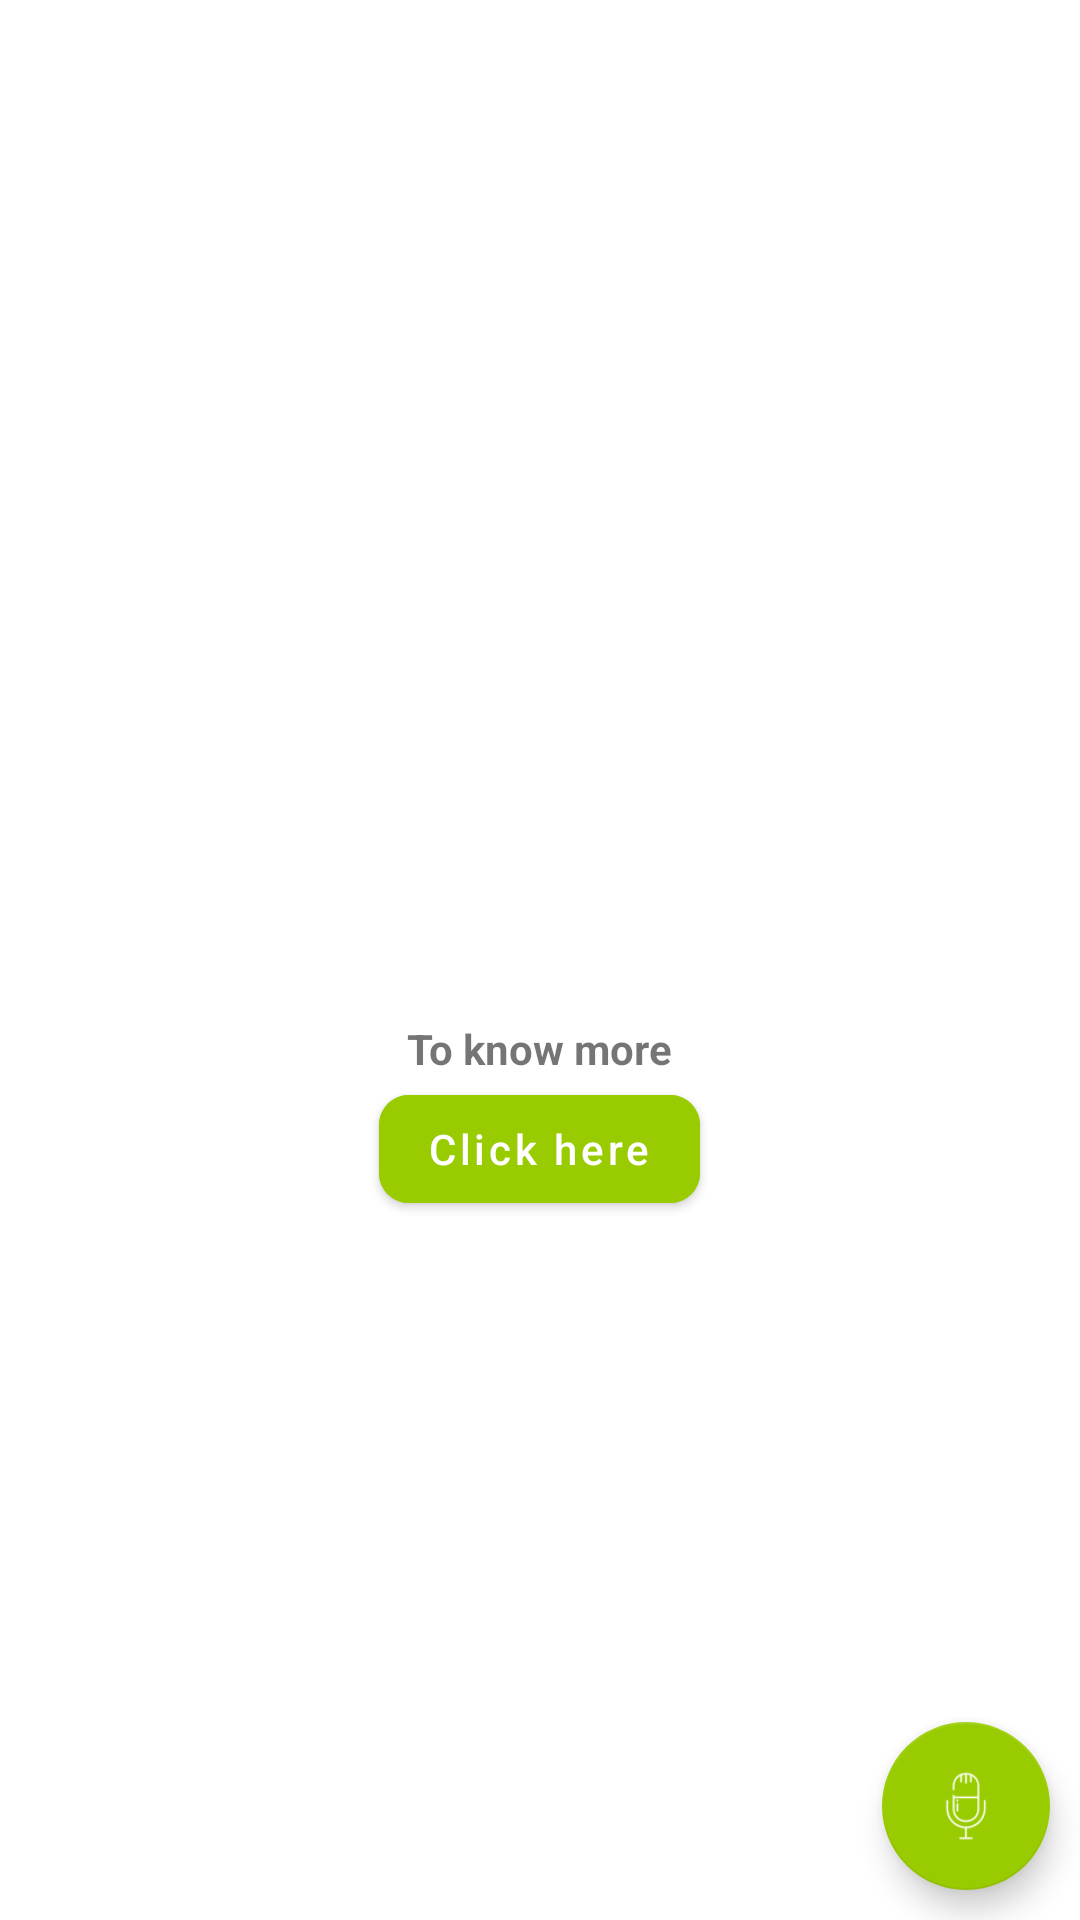

Where to tap for icons on this 1080x1920 app screen, as [x,y]:
mic: [966,1806]
